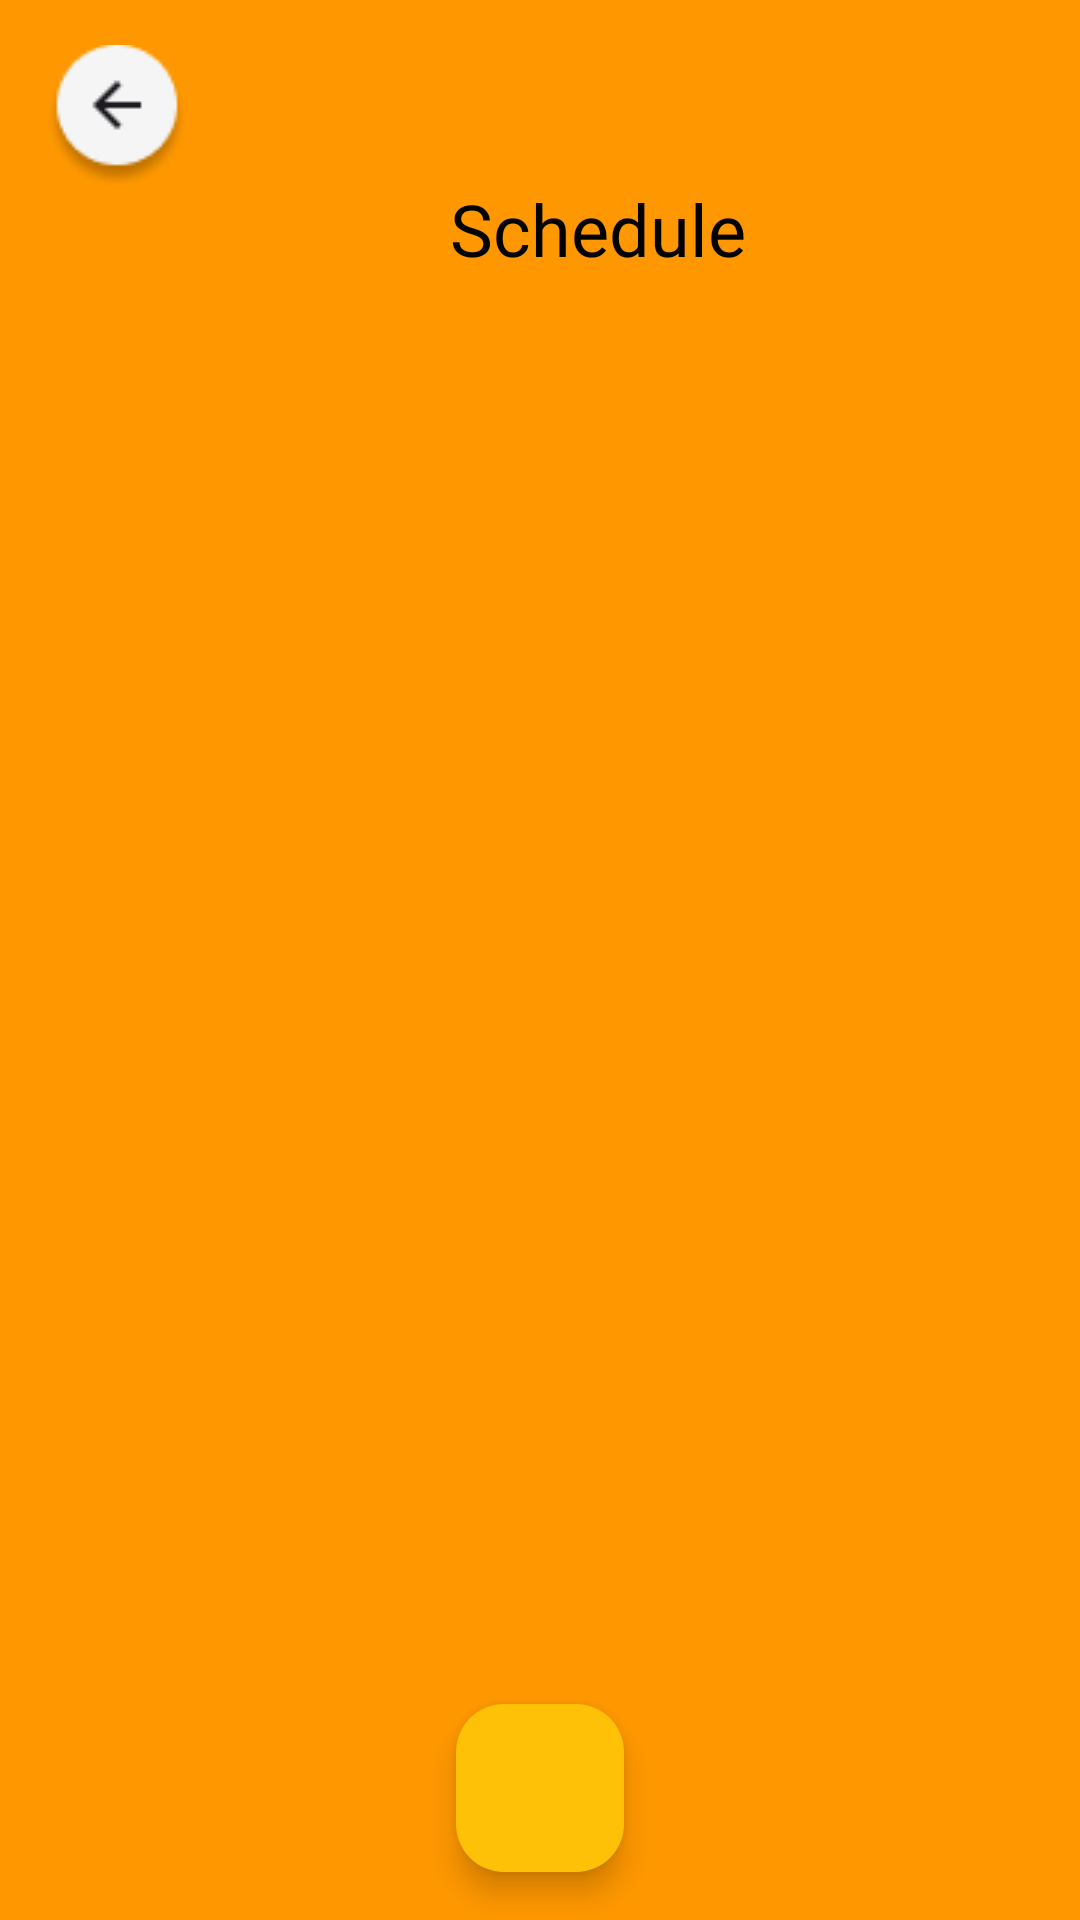

Screen size 1080×1920. Icon name, then its center in pixels as (x=x, y=y):
back: (x=117, y=111)
